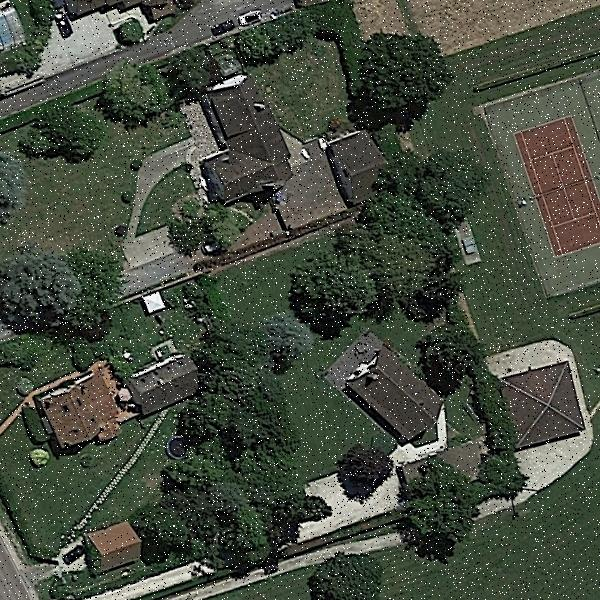Buildings: (201, 72, 289, 206), (357, 352, 427, 435), (39, 380, 110, 448), (502, 380, 588, 432), (334, 126, 379, 206), (126, 360, 195, 412), (406, 445, 482, 475), (90, 522, 136, 568), (66, 0, 176, 15)
